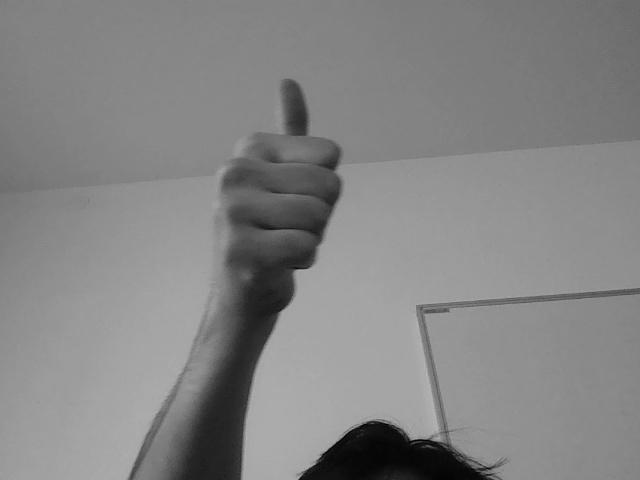good: (201, 74, 356, 331)
